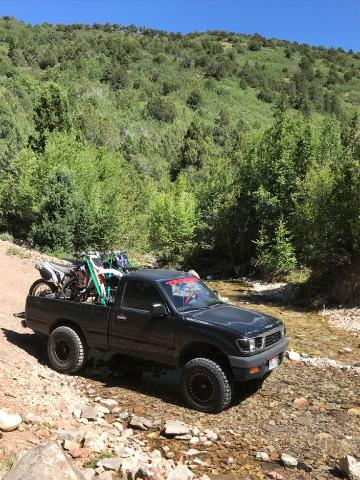pickup-truck: (21, 268, 289, 414)
